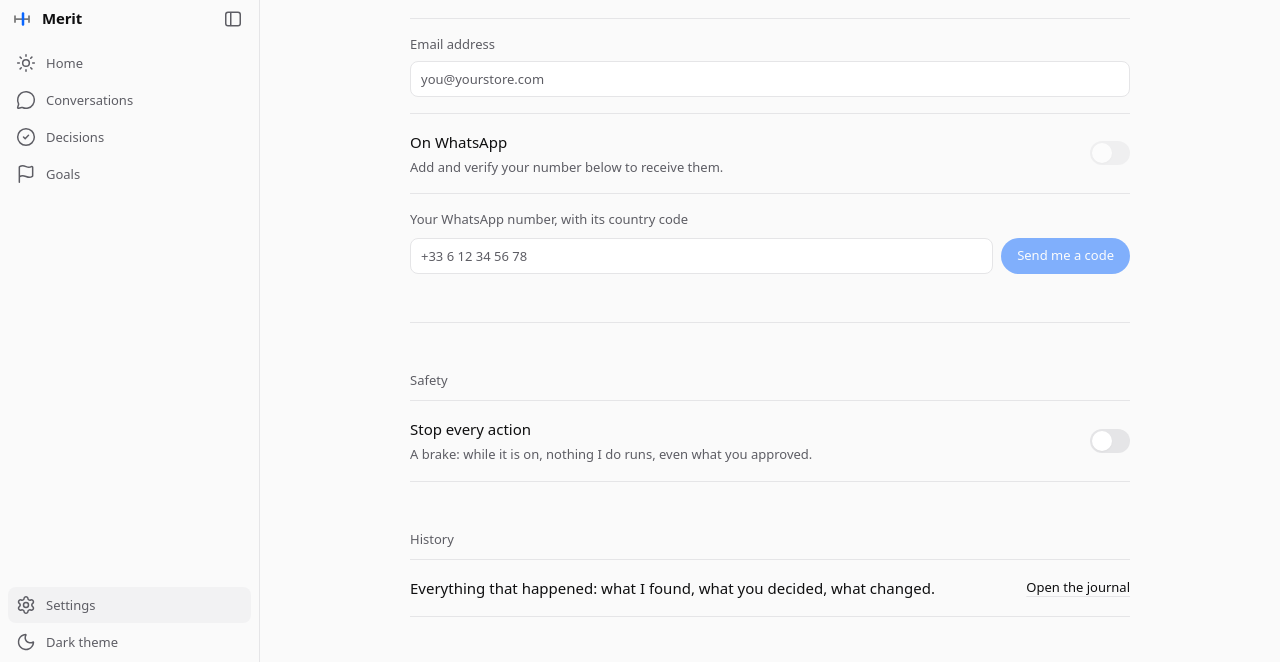
Test: Settings › stops every action with the brake, and says when a change is refused
(page scrolled)
Click the switch named "Stop every action".
click(1110, 441)  # box left=1090, top=429, right=1130, bottom=453
(page scrolled)
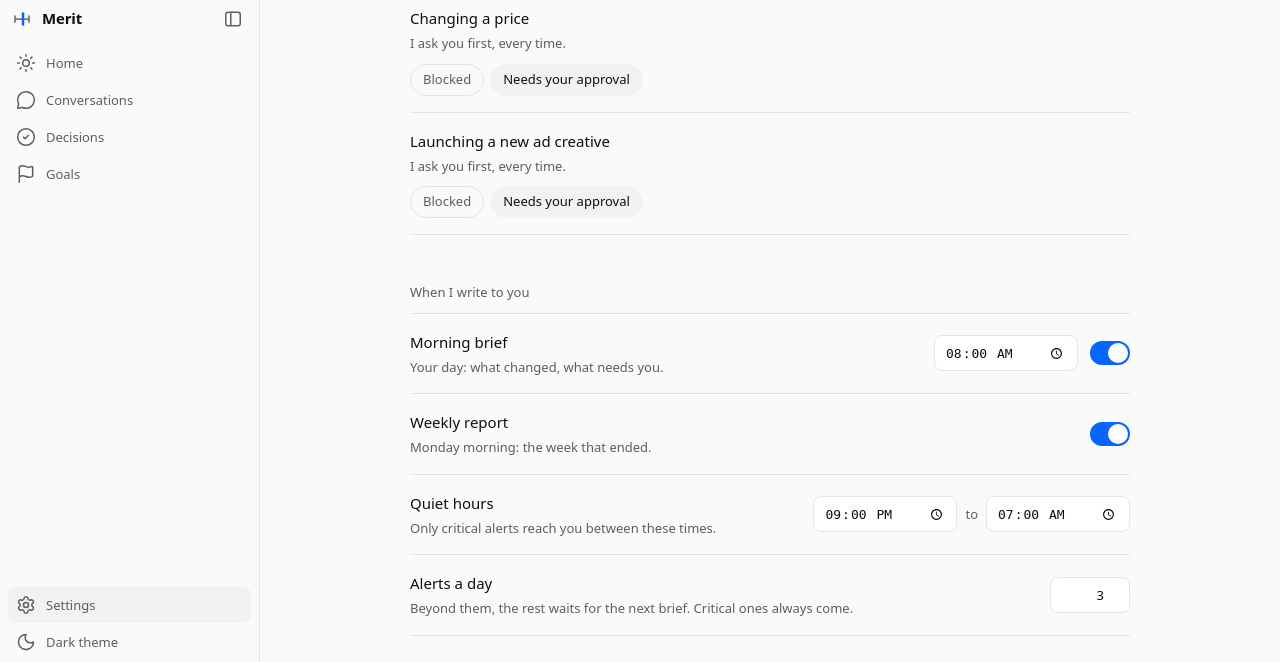
Click the switch named "Morning brief".
click(1110, 353)  # box left=1090, top=341, right=1130, bottom=365
(page scrolled)
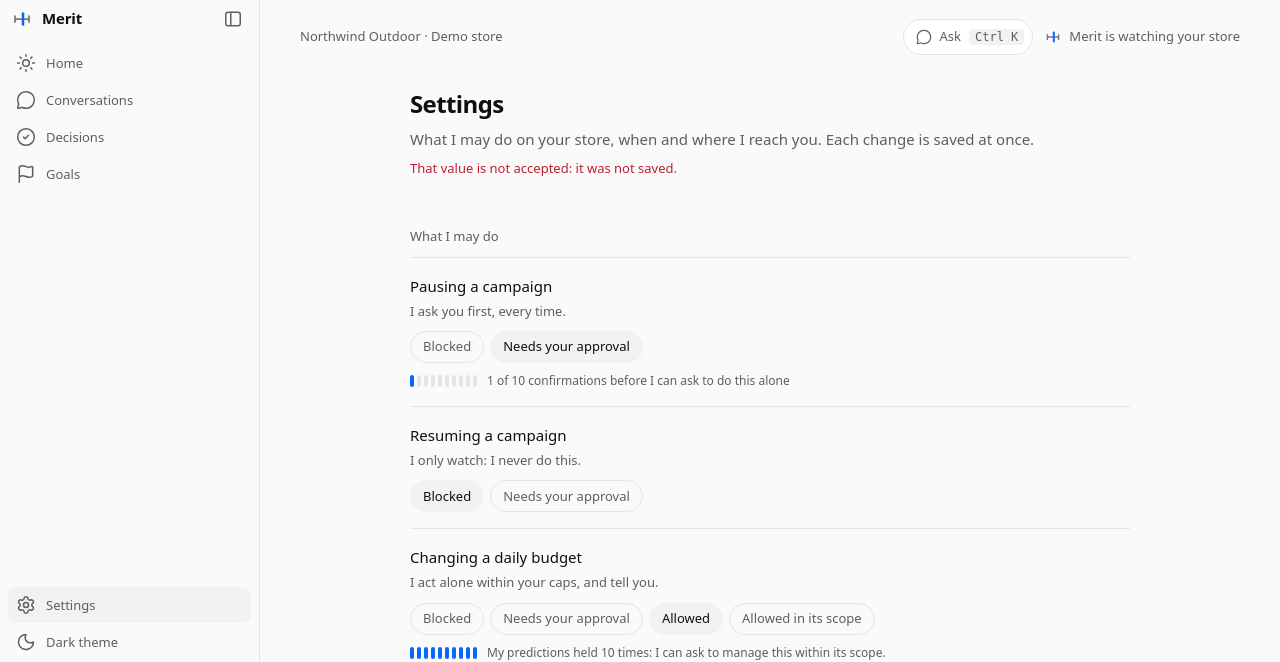
Now the text "That value is not accepted: it was not saved." is shown, box left=410, top=159, right=677, bottom=177
